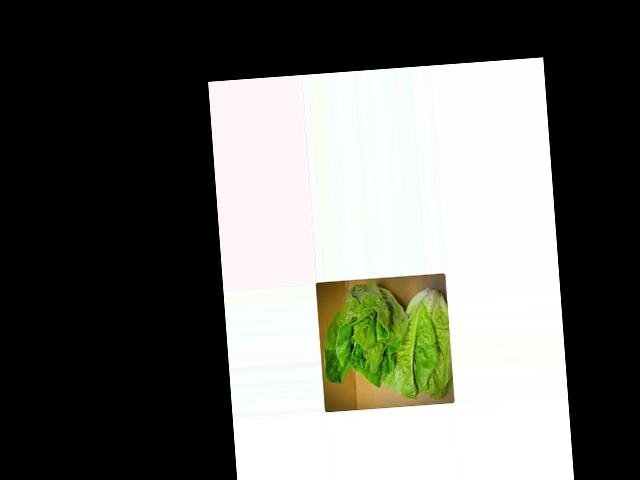lettuce: (335, 289, 449, 397)
